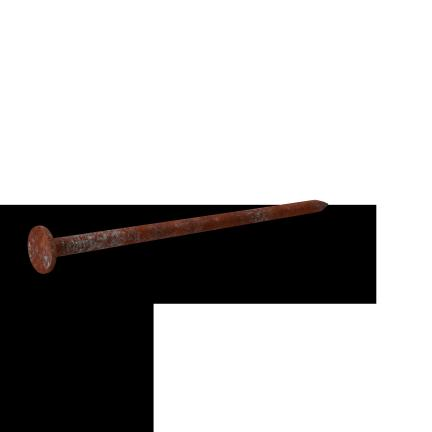karat: (28, 200, 327, 273), (54, 199, 327, 256), (28, 225, 57, 273)
